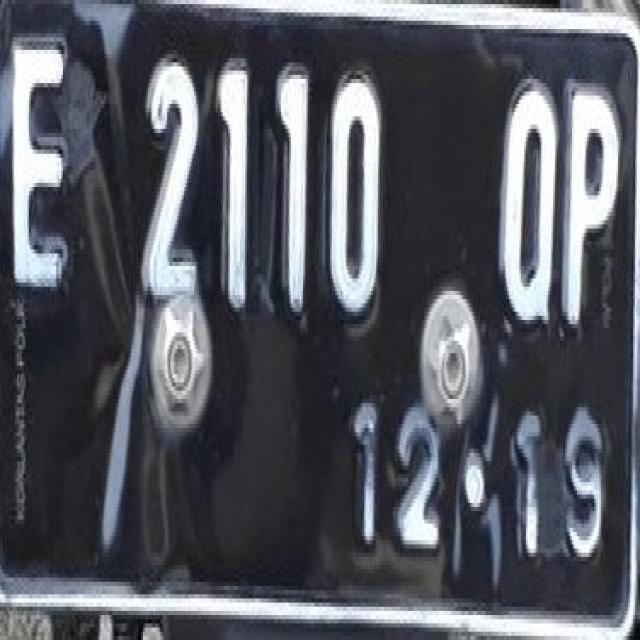plate: (0, 2, 635, 638)
